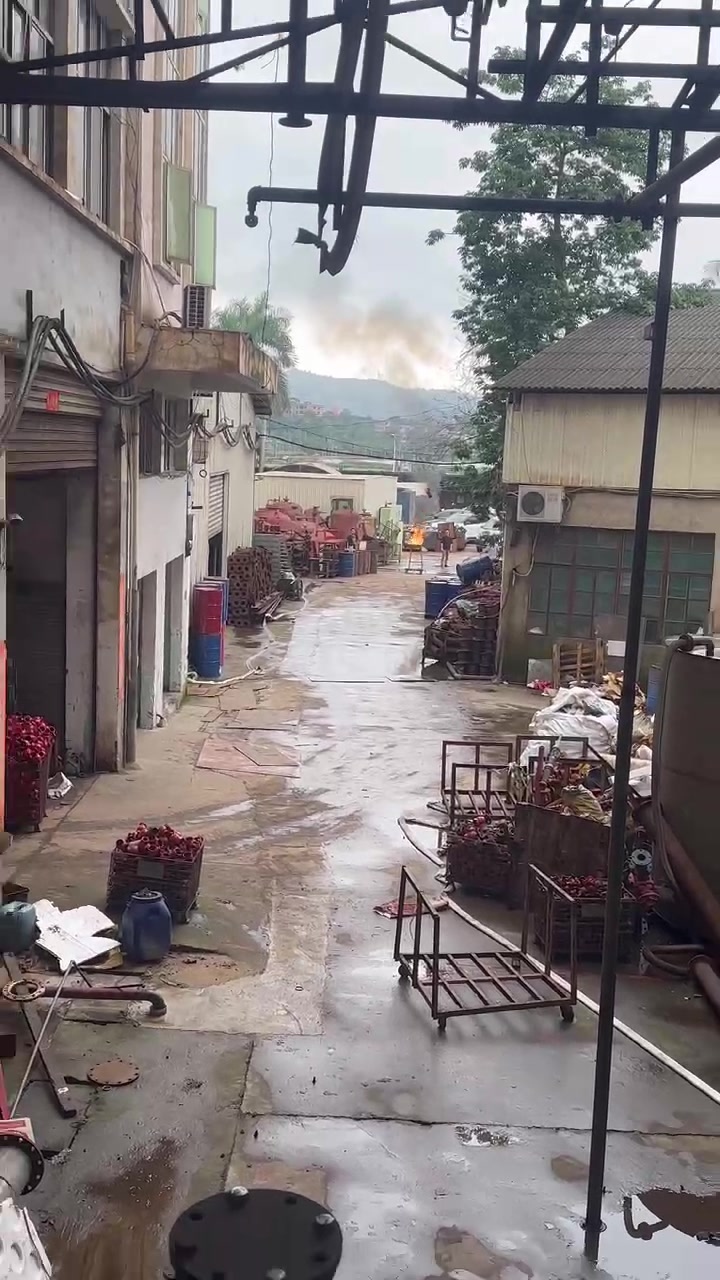fire: (407, 525, 422, 545)
